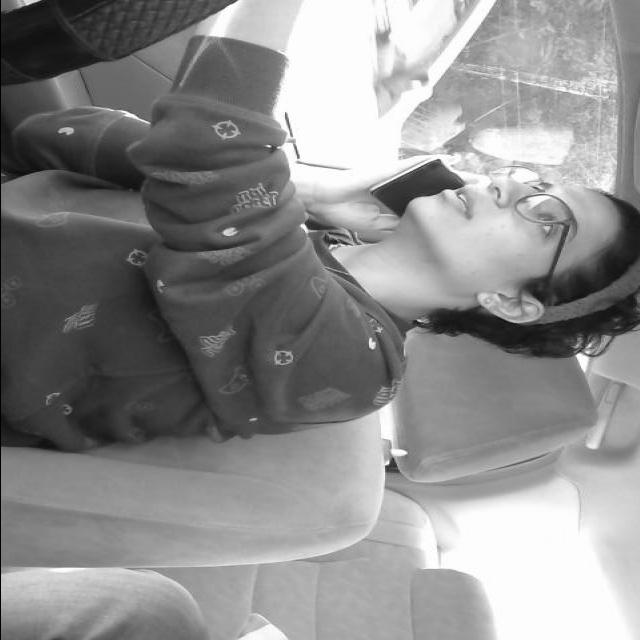mobile use: (361, 142, 477, 216)
